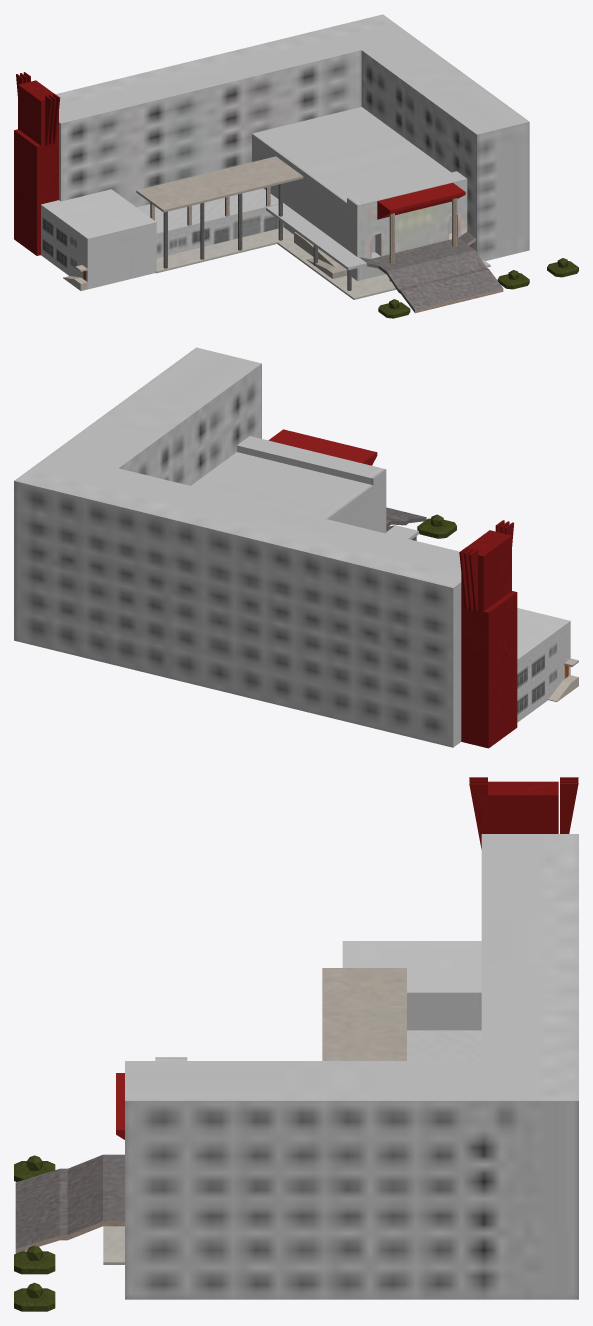
The picture shows the model from 3 angles, top to bottom: view 1: azimuth 30°, elevation 25°; view 2: azimuth 150°, elevation 25°; view 3: azimuth 270°, elevation 25°; orthographic projection. The views are drawn at different scales.
Parts seen in each view (by area): view 1: teachBuilding001, mainBuilding001, secondBuilding001, mainLadder, teachBuildingSide, entryBuilding001, entry_Stone1000, Ground, roof, entry_Stone1003, mainBuilding_Side, group1 (+2 smaller); view 2: teachBuilding001, teachBuildingSide, mainBuilding001, secondBuilding001, roof, group1, mainLadder, secondBuilding_Ladder; view 3: teachBuilding001, secondBuilding001, mainLadder, entry_Stone1000, teachBuildingSide, entryBuilding001, group2, group3, Ground, group1.
Part boxes in pixels (x1,y1,x2,y2): teachBuilding001: [56, 14, 529, 260]; mainBuilding001: [252, 107, 467, 280]; secondBuilding001: [41, 189, 156, 289]; mainLadder: [359, 198, 503, 313]; teachBuildingSide: [14, 72, 60, 255]; entryBuilding001: [137, 188, 283, 257]; entry_Stone1000: [136, 156, 303, 212]; Ground: [155, 227, 490, 299]; roof: [377, 182, 465, 219]; entry_Stone1003: [150, 183, 282, 268]; mainBuilding_Side: [294, 232, 347, 278]; group1: [378, 299, 410, 318]; teachBuilding001: [14, 347, 461, 747]; teachBuildingSide: [459, 520, 517, 748]; mainBuilding001: [191, 436, 418, 539]; secondBuilding001: [517, 608, 570, 722]; roof: [268, 429, 377, 465]; group1: [417, 514, 456, 538]; mainLadder: [386, 507, 426, 531]; secondBuilding_Ladder: [548, 658, 578, 701]; teachBuilding001: [125, 834, 578, 1299]; secondBuilding001: [342, 941, 481, 1030]; mainLadder: [15, 1154, 124, 1253]; entry_Stone1000: [322, 968, 406, 1060]; teachBuildingSide: [469, 777, 578, 849]; entryBuilding001: [407, 1030, 481, 1060]; group2: [14, 1245, 55, 1274]; group3: [14, 1282, 55, 1311]; Ground: [103, 1226, 124, 1264]; group1: [14, 1155, 55, 1181].
Size of the model in its own units: 65.77 by 25.35 by 52.78.
12 materials, 12 textured.
